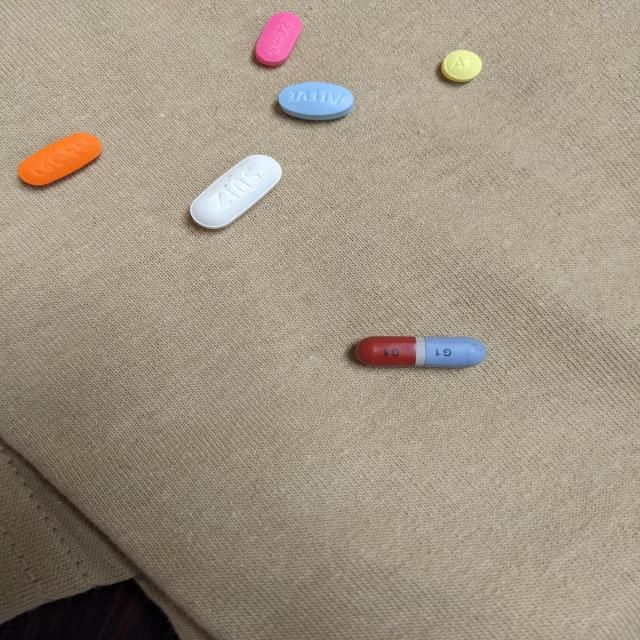non-organic waste: (189, 154, 284, 230), (16, 132, 103, 186), (354, 334, 488, 368), (276, 81, 356, 122), (253, 11, 303, 67), (439, 49, 484, 84)
